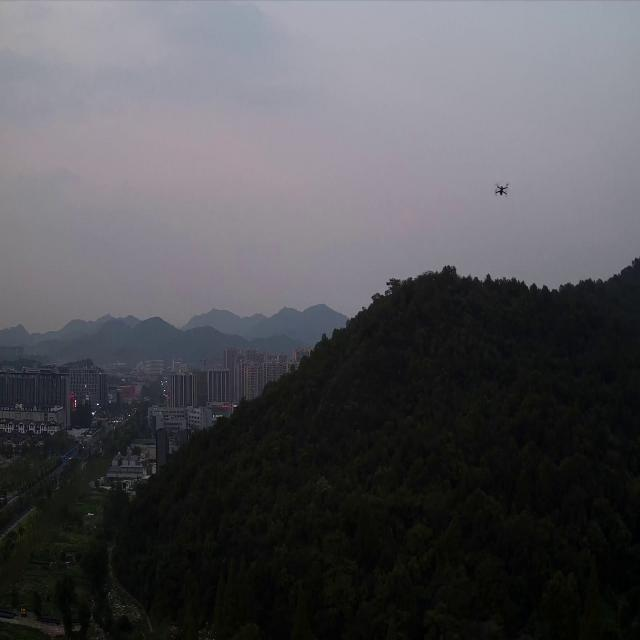drone: (493, 182, 510, 198)
